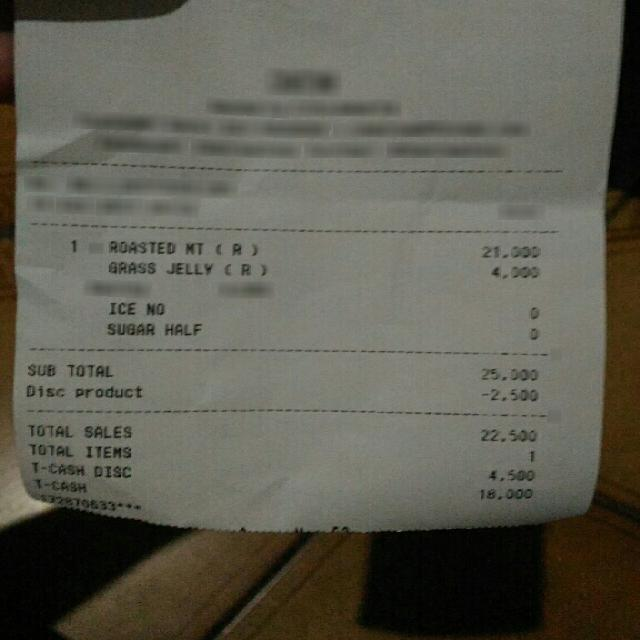kertas: (15, 0, 622, 533)
